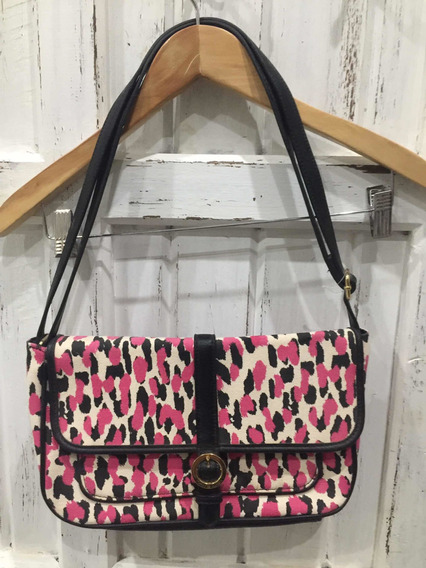cartera: (24, 15, 372, 529)
